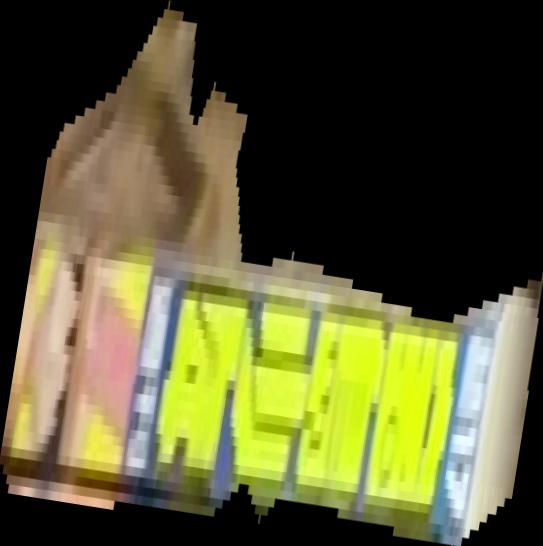flat: (1, 1, 543, 546)
